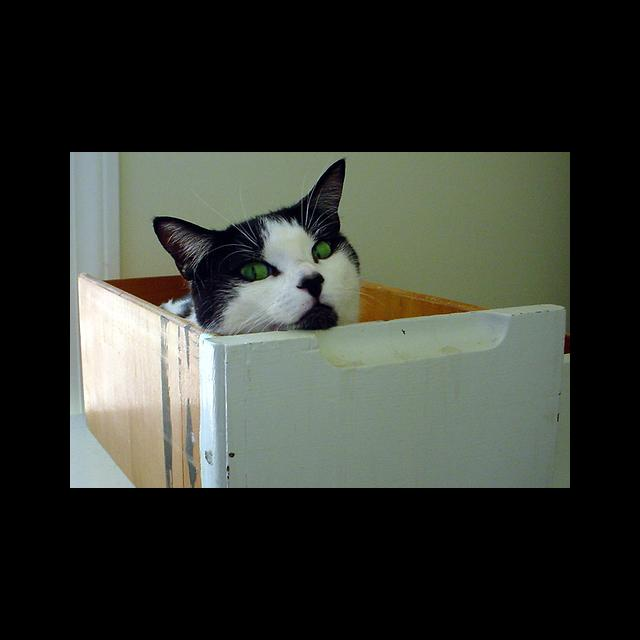animals: (155, 157, 343, 297)
